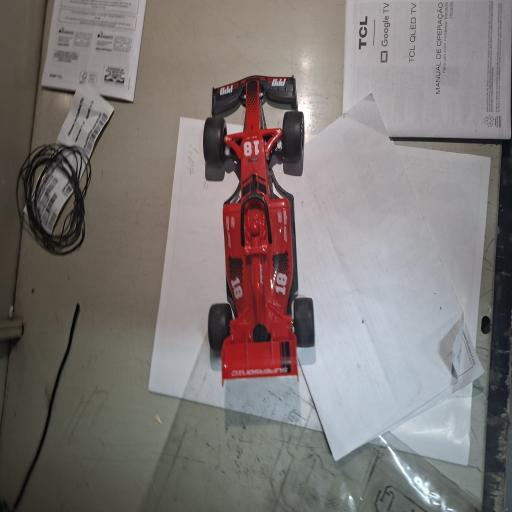carro: (202, 63, 320, 397)
